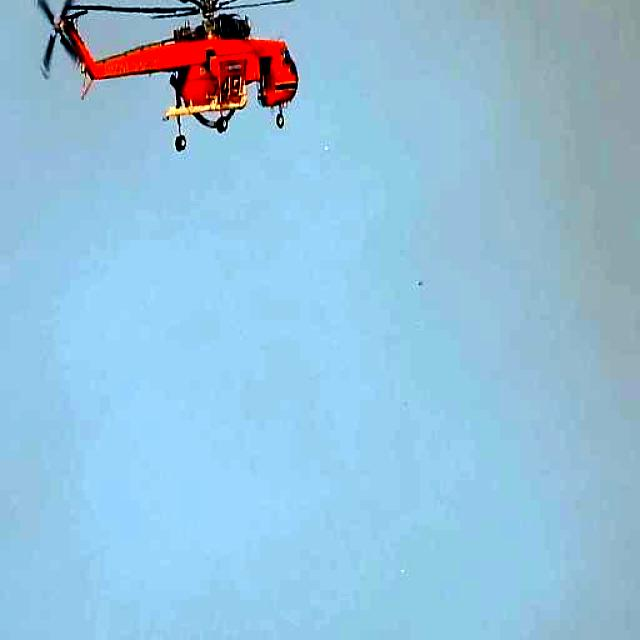drone: (26, 0, 355, 189)
